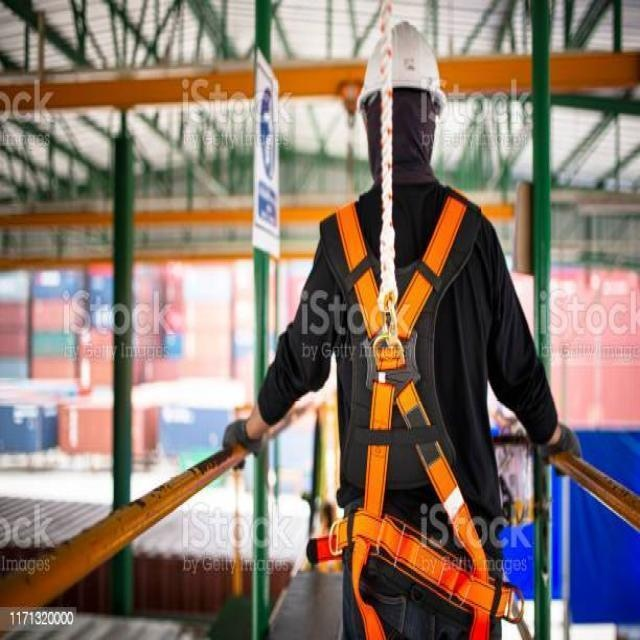Arnes_seguridad: (298, 191, 520, 640)
